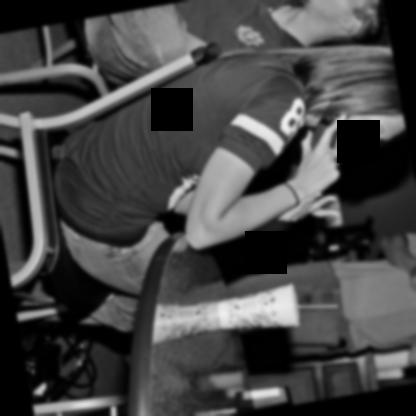handbag: (18, 318, 100, 401)
